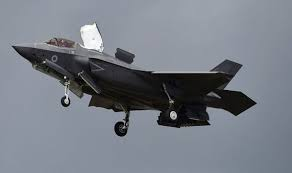fighter: (10, 23, 258, 134)
